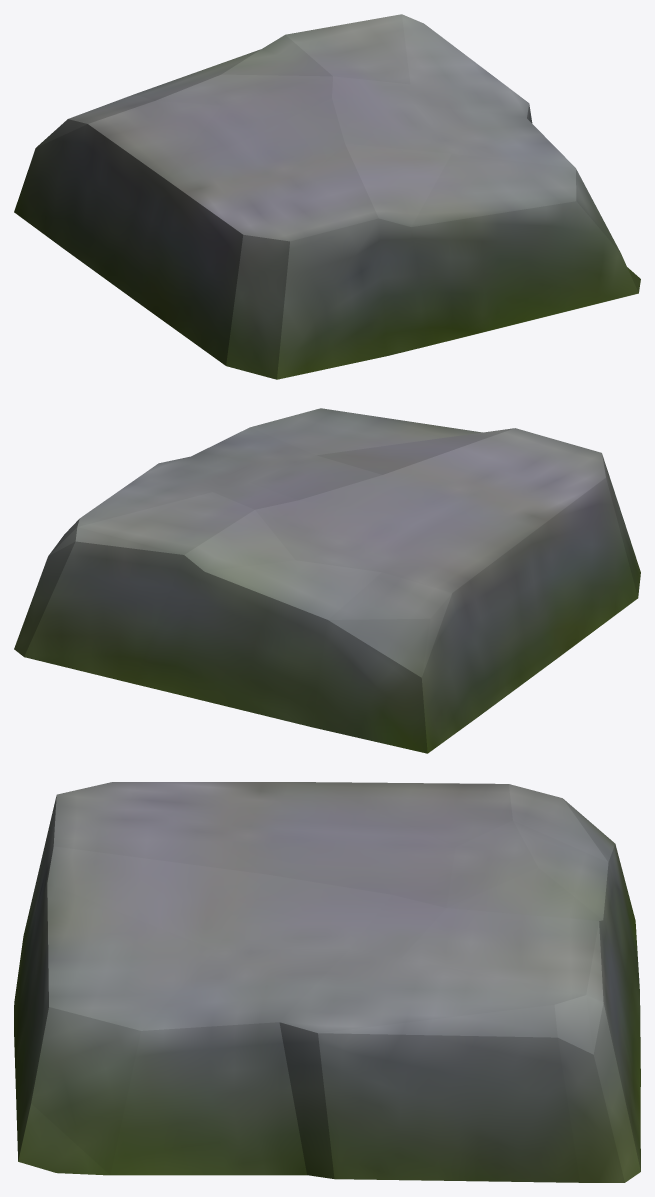
The model's file is pebble-3.glb.
3 renders of one model, top to bottom at view 1: azimuth 30°, elevation 25°; view 2: azimuth 150°, elevation 25°; view 3: azimuth 270°, elevation 25°, orthographic. The views are drawn at different scales.
Parts seen in each view (by area): view 1: pebble-3; view 2: pebble-3; view 3: pebble-3.
Part boxes in pixels (<box>): pebble-3: <box>14,14,640,379</box>; pebble-3: <box>14,408,640,753</box>; pebble-3: <box>14,782,640,1182</box>.
Size of the model in its own units: 0.4346 by 0.1299 by 0.4396.
1 material, 1 textured.
